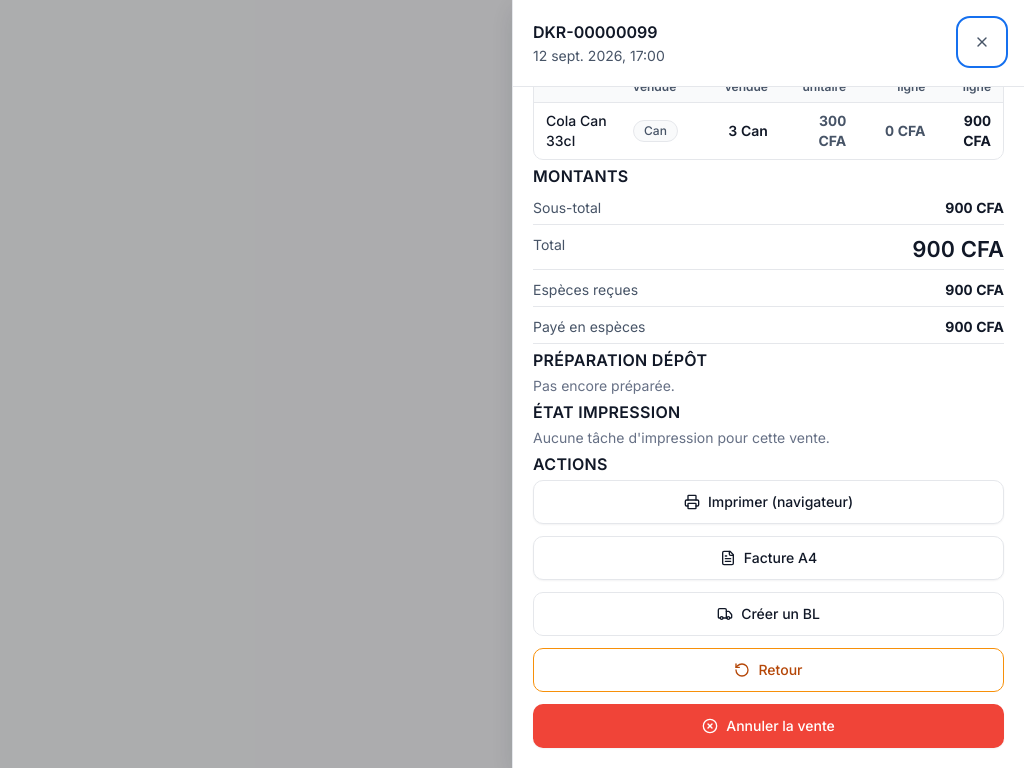
Test: SaleDetailDrawer › Browser print (fallback) uses a structured POS ticket without URLs
(page scrolled)
Click the button "Imprimer (navigateur)". click: (768, 502)
box: [533,480,1004,524]
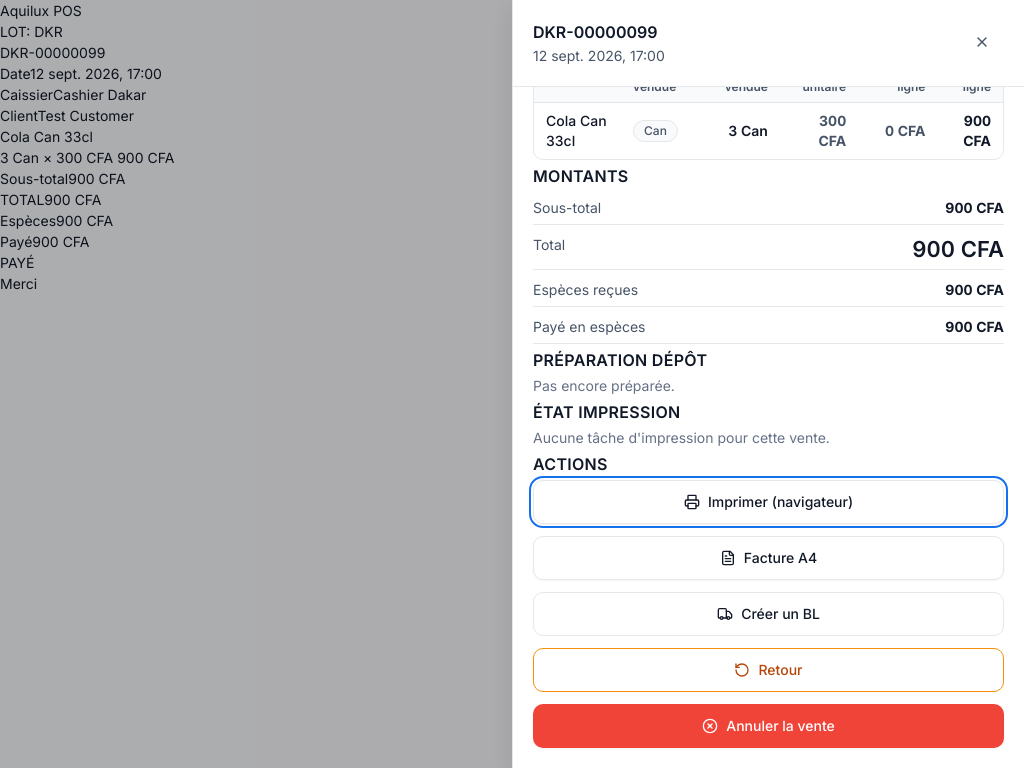
Now the element that starts with "Aquilux POS" is shown, box [0,2,174,292]
